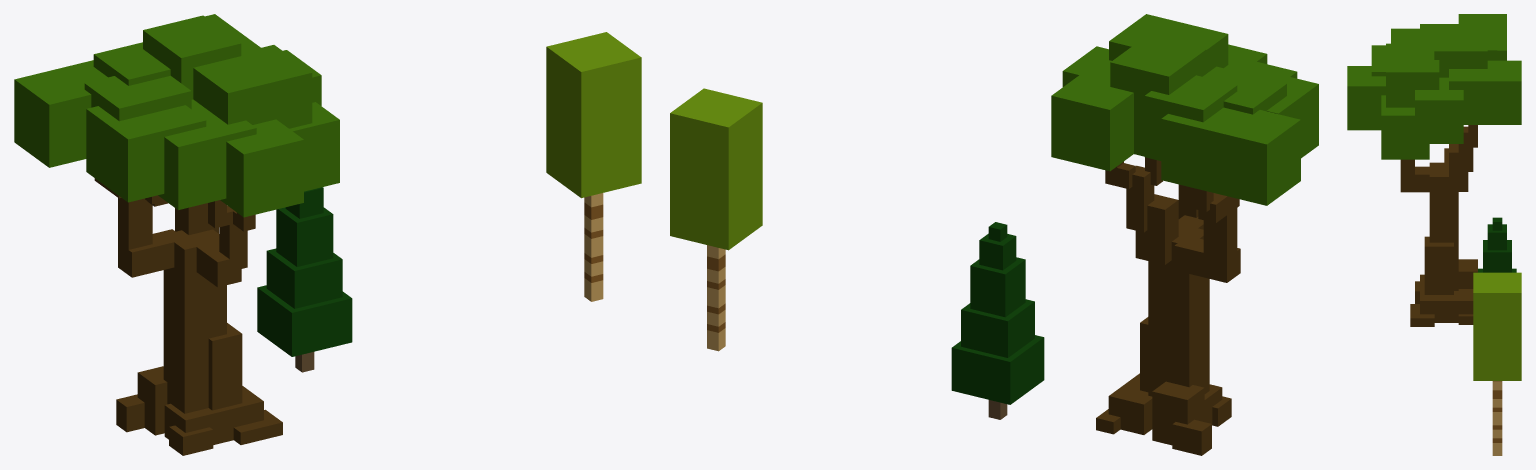
File: trees obj.obj
The picture shows the model from 3 angles, left to right: view 1: azimuth 30°, elevation 25°; view 2: azimuth 150°, elevation 25°; view 3: azimuth 270°, elevation 25°; orthographic projection. The views are drawn at different scales.
Parts seen in each view (by area): view 1: trees obj; view 2: trees obj; view 3: trees obj.
Part boxes in pixels (x1,y1,x2,y2): trees obj: [14, 14, 641, 455]; trees obj: [670, 14, 1318, 455]; trees obj: [1347, 14, 1521, 455].
Size of the model in its own units: 100 by 61 by 36.
1 material, 1 textured.
